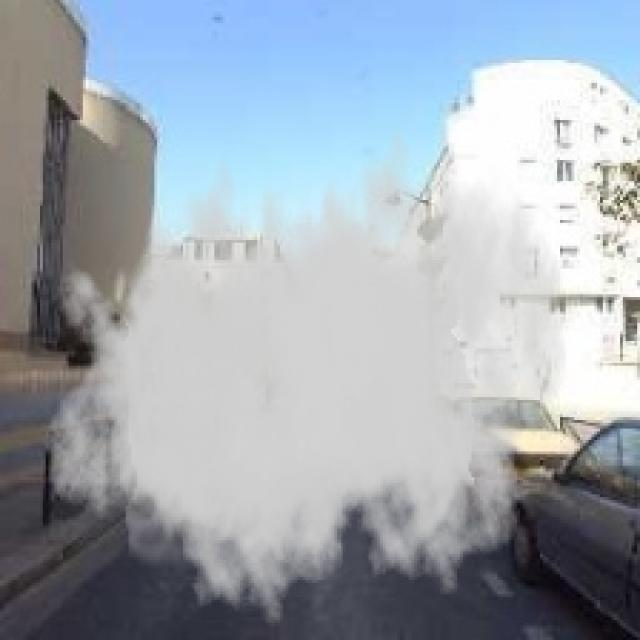smoke: (43, 103, 568, 634)
